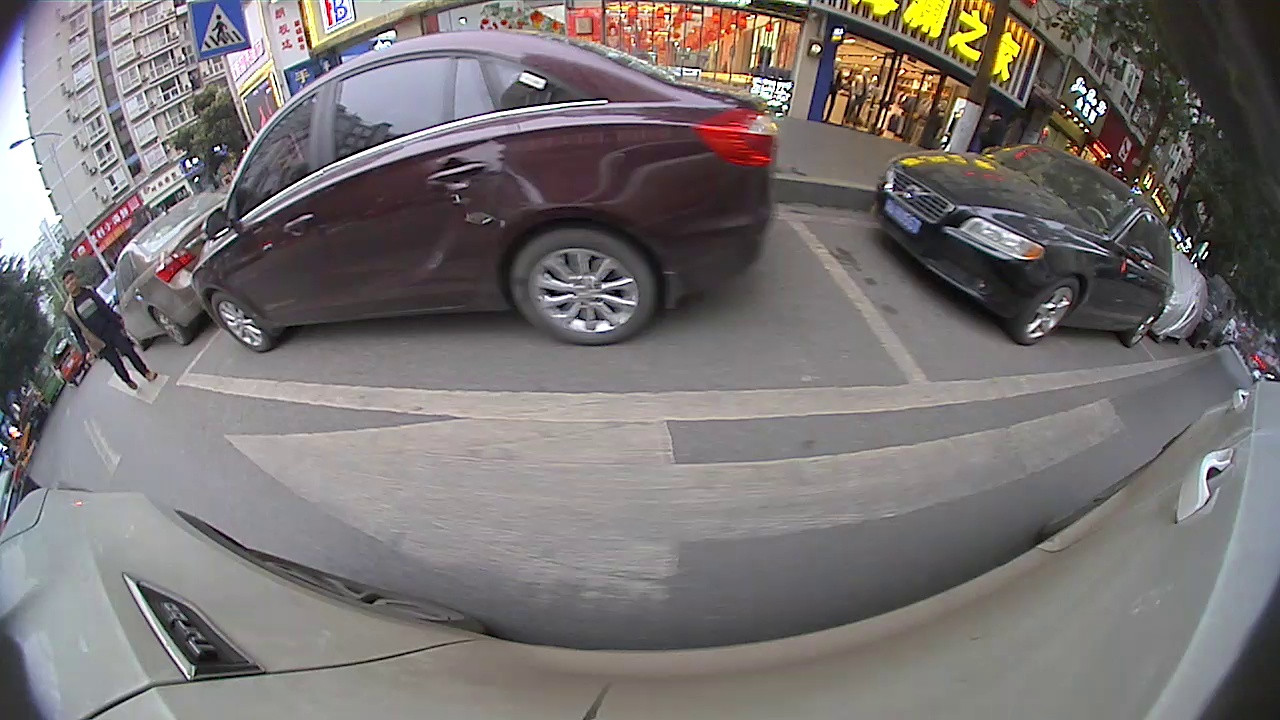car: (192, 27, 781, 355), (869, 141, 1179, 351), (111, 186, 260, 349), (1146, 247, 1213, 349)
front: (208, 293, 275, 356), (1015, 280, 1081, 343)
person: (57, 267, 158, 395)
rear: (512, 233, 660, 344), (146, 309, 194, 345), (1131, 306, 1159, 354)
